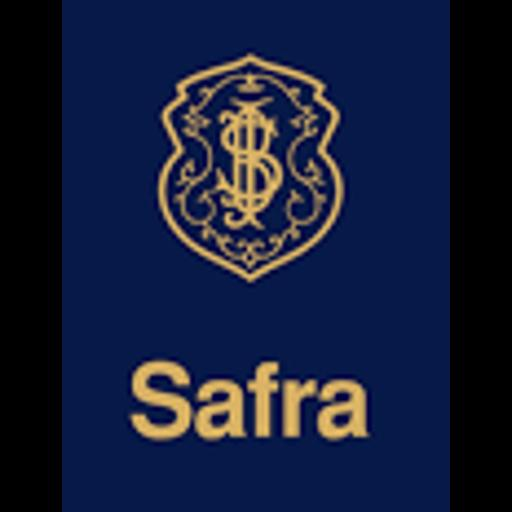Banco Safra: (62, 0, 450, 512)
